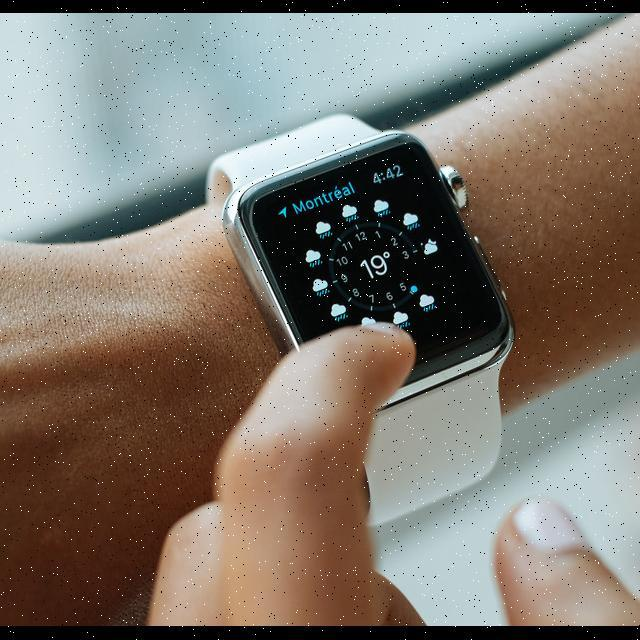watch: (168, 72, 505, 525)
